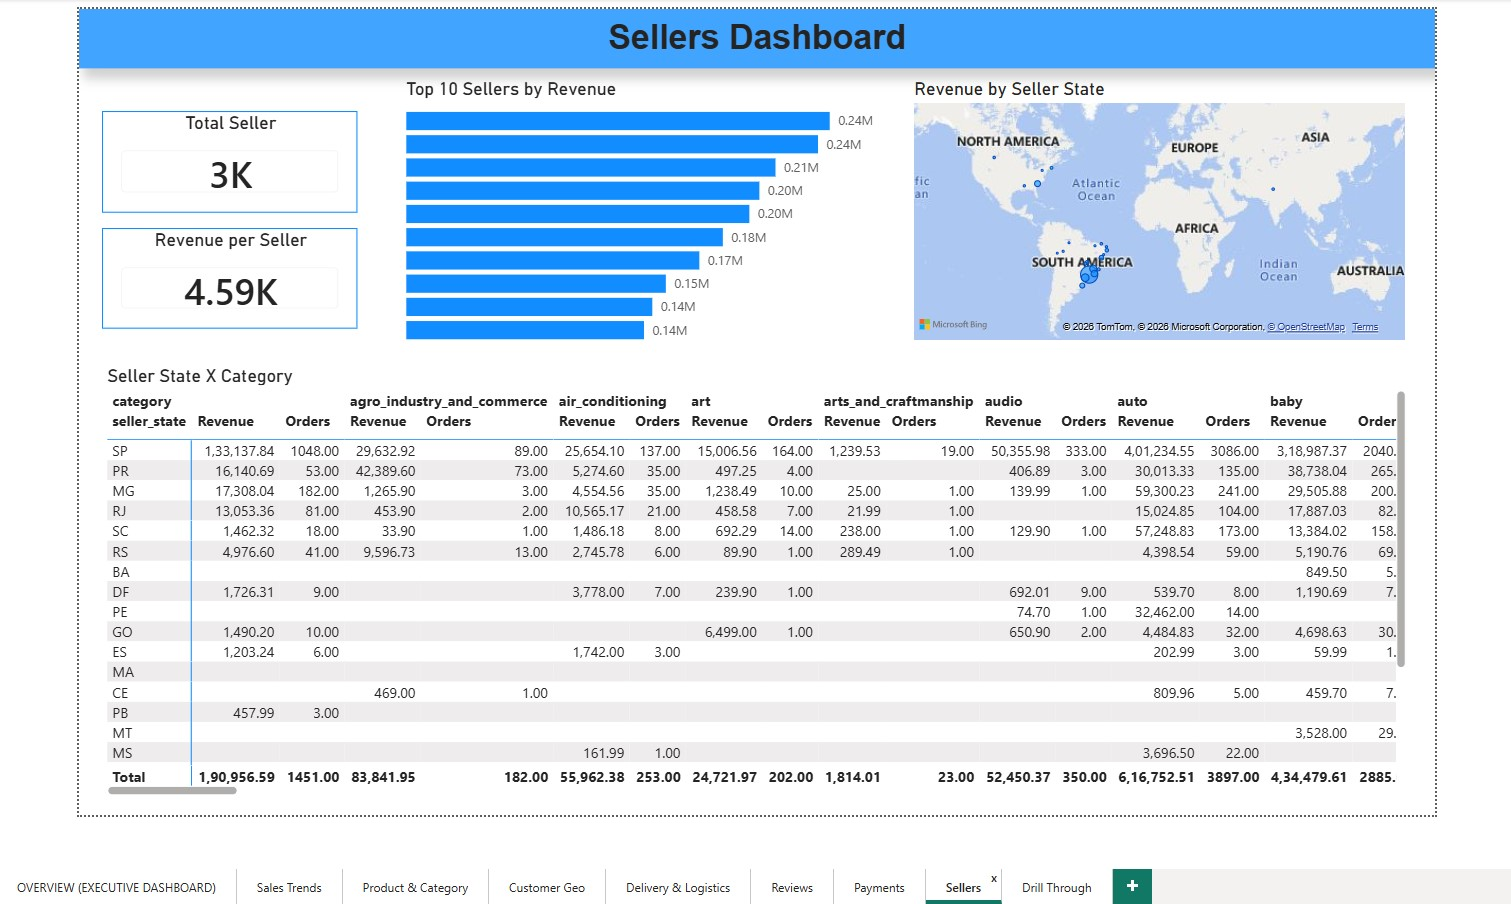

Layout of this report page (visuals, bound fields, positions):
{"tool":"powerbi","page":{"name":"Sellers","canvas":[1280,760],"ordinal":7},"visuals":[{"type":"cardVisual","title":"Total Seller","fields":{"Data":["public bi_fact_sales.Sellers"]},"box":[21.9,95.9,241.2,95.8],"z":0},{"type":"cardVisual","title":"Revenue per Seller","fields":{"Data":["public bi_fact_sales.Revenue per Seller"]},"box":[21.9,206.7,241.2,94.9],"z":1000},{"type":"map","title":"Revenue by Seller State","fields":{"Size":["public bi_fact_sales.Revenue"],"Category":["public bi_fact_sales.seller_state"]},"box":[782.7,64.8,472.6,251.8],"z":2000},{"type":"clusteredBarChart","title":"Top 10 Sellers by Revenue","fields":{"Y":["public bi_fact_sales.Revenue"],"Category":["public bi_fact_sales.seller_id"]},"box":[303.8,64.8,450.4,251.8],"z":3000},{"type":"pivotTable","title":"Seller State X Category","fields":{"Values":["public bi_fact_sales.Revenue","public bi_fact_sales.Orders"],"Columns":["public bi_fact_sales.category"],"Rows":["public bi_fact_sales.seller_state"]},"box":[21.9,336.2,1235.2,411.4],"z":4000},{"type":"shape","box":[0,0,1280.2,56.2],"z":5000},{"type":"textbox","box":[483.3,4.2,313.5,52.1],"z":6000}]}

Visuals, with their boxes on the page's 1280x760 design canvas (x1, y1, x2, y2). These are canvas units, not pixel positions in the 1511x904 screenshot, which may show the page scaled, cropped or inside an application window:
"Total Seller" cardVisual: 22:96:263:192
"Revenue per Seller" cardVisual: 22:207:263:302
"Revenue by Seller State" map: 783:65:1255:317
"Top 10 Sellers by Revenue" clusteredBarChart: 304:65:754:317
"Seller State X Category" pivotTable: 22:336:1257:748
shape: 0:0:1280:56
textbox: 483:4:797:56
